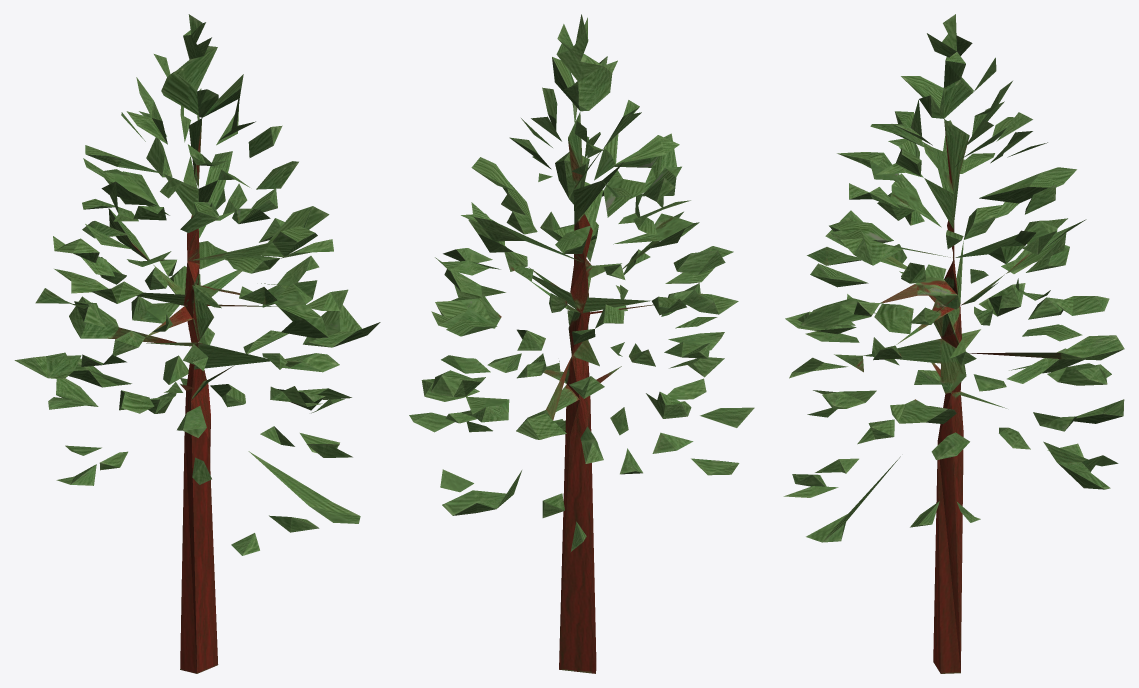
File: pine_1.glb
The picture shows the model from 3 angles, left to right: view 1: azimuth 30°, elevation 25°; view 2: azimuth 150°, elevation 25°; view 3: azimuth 270°, elevation 25°; orthographic projection.
Bounding box in the file's own units: 0.8945 × 1.83 × 0.8726.
1 material, 1 textured.
